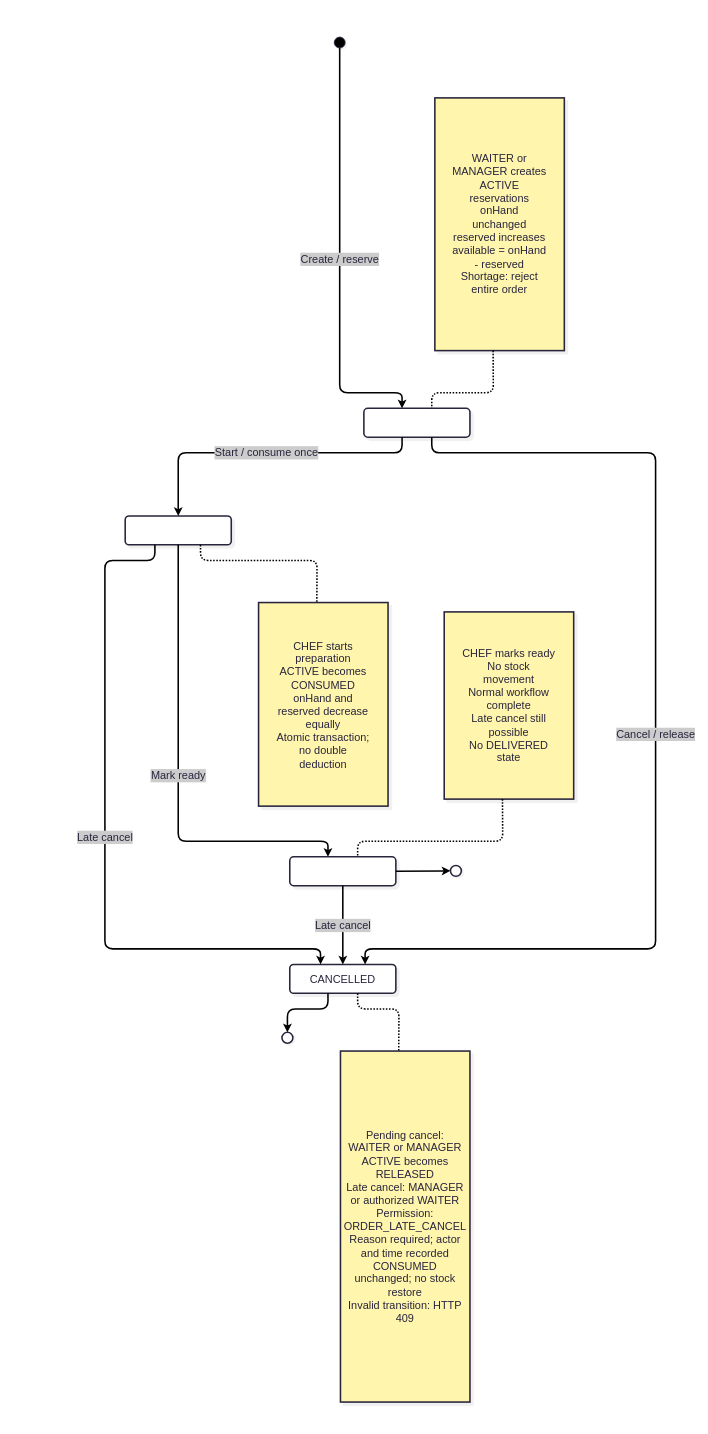
Some shapes in this 708 by 1434 pixel diagram are drawn without their labels. The shapes that lost their labels are listed below. From the top down, each one's centre as x and y in pixels, then its label:
point 418,424: PENDING
point 179,531: PREPARING
point 344,872: READY
